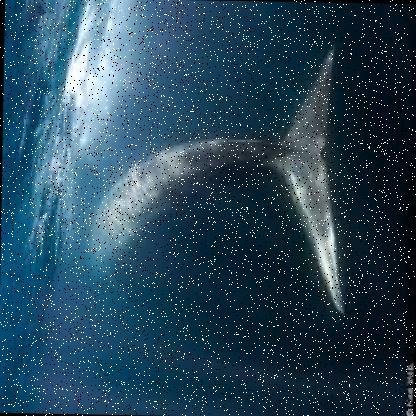blue_whale: (44, 34, 374, 344)
